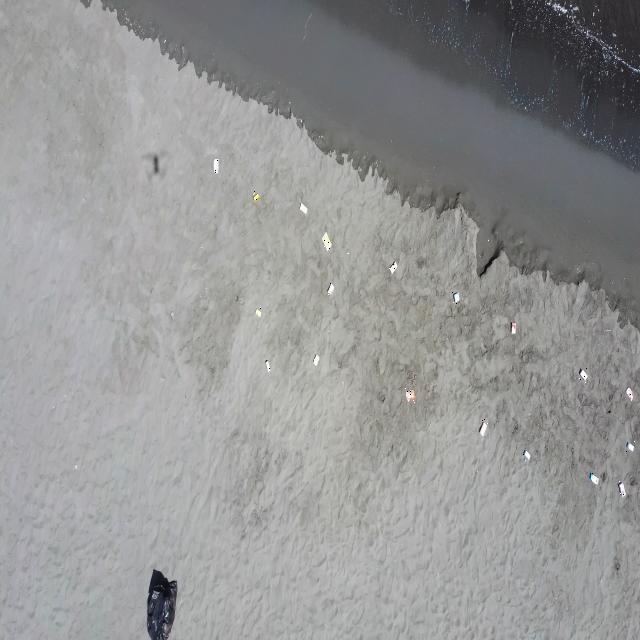Garbage: (148, 569, 176, 639), (322, 232, 331, 249), (406, 388, 415, 403), (588, 472, 599, 484), (479, 419, 487, 435), (152, 154, 158, 173), (579, 368, 587, 382), (212, 158, 219, 173), (617, 480, 624, 495), (624, 440, 633, 451), (452, 291, 460, 303), (388, 260, 396, 272), (312, 353, 319, 366), (300, 201, 307, 213), (252, 190, 260, 200), (626, 387, 632, 400), (522, 449, 529, 460), (264, 360, 270, 371), (328, 283, 332, 295), (511, 321, 515, 333), (256, 307, 260, 316), (169, 311, 172, 319), (74, 464, 76, 468)
